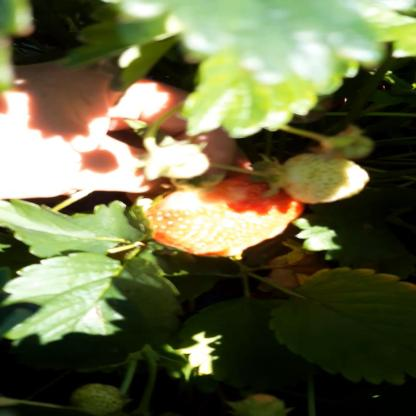ripe: (145, 179, 302, 262)
unripe: (270, 150, 369, 205), (142, 142, 214, 180), (318, 131, 380, 159)
